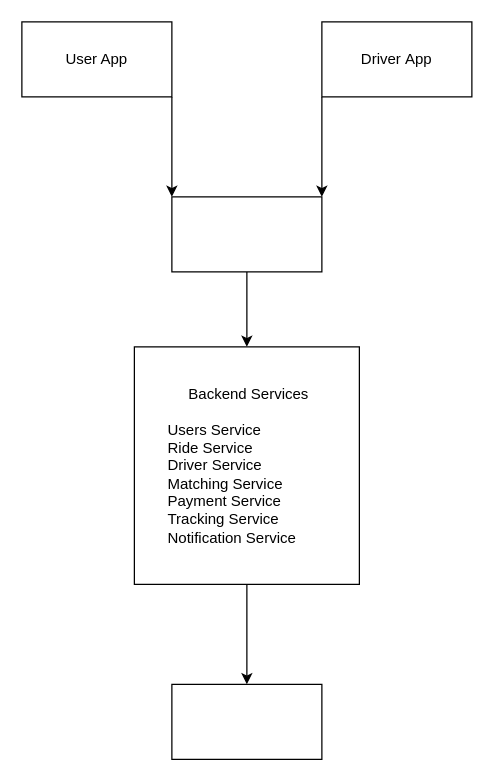
This 494x781 diagram has some shape labels left out. The centre of each missing label's shape, as x and y in pixels:
"Databases" belongs at pixel 246 721.
"Frontend / API Gateway" belongs at pixel 246 234.
